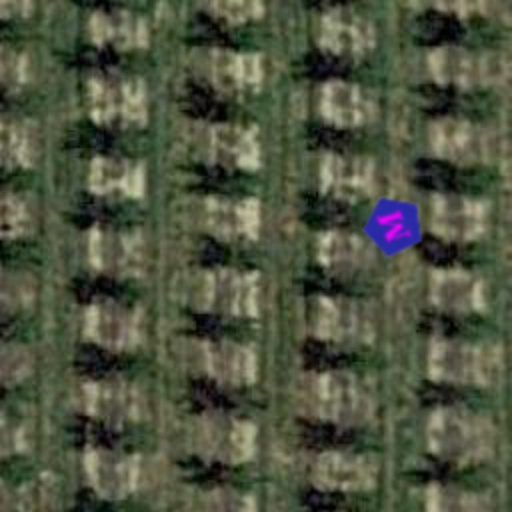pentagon: (350, 182, 438, 270)
